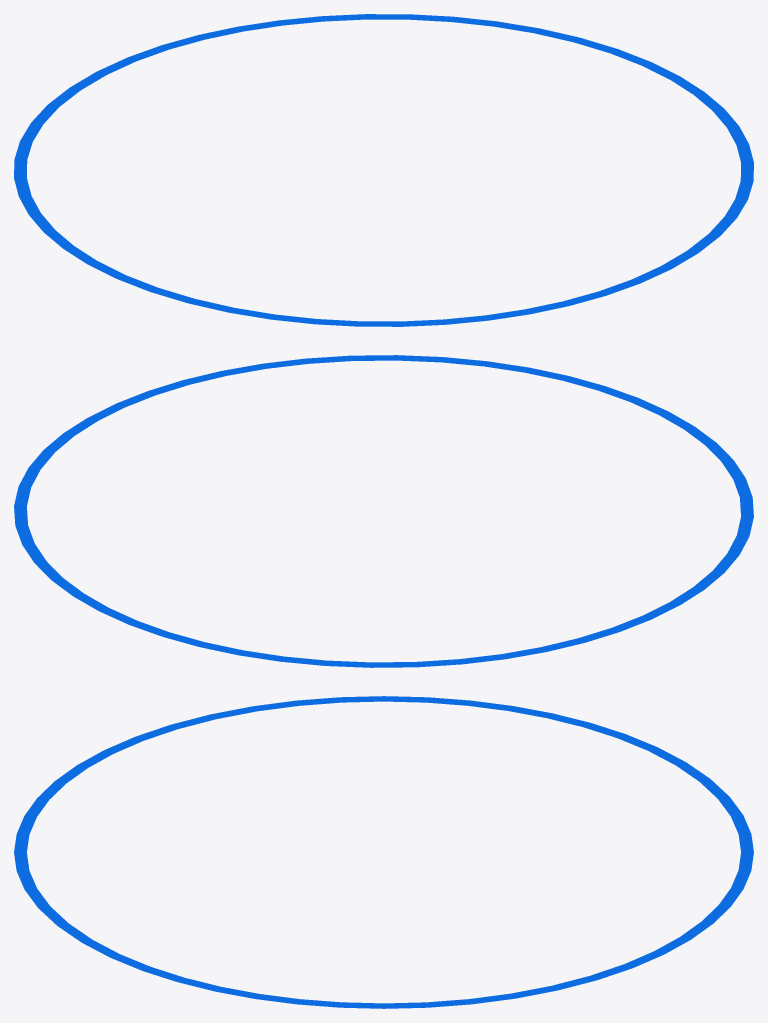
The model's file is EvaRing.FBX.
3 renders of one model, top to bottom at view 1: azimuth 30°, elevation 25°; view 2: azimuth 150°, elevation 25°; view 3: azimuth 270°, elevation 25°, orthographic.
Visible parts, largest first — view 1: Ring; view 2: Ring; view 3: Ring.
Boxes of the visible parts, x1,y1,x2,y2 form: Ring: [14, 14, 753, 326]; Ring: [14, 355, 753, 667]; Ring: [14, 696, 753, 1008].
Bounding box in the file's own units: 31.97 × 6.49e-07 × 31.97.
